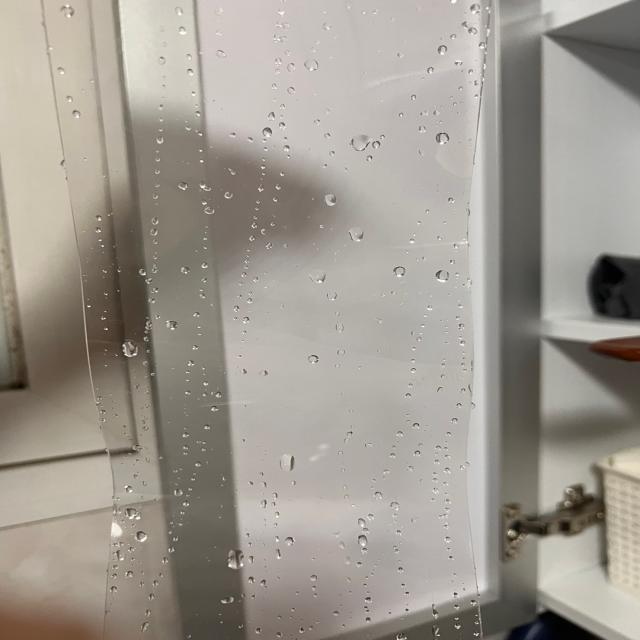raindrop: (227, 545, 250, 572), (351, 132, 375, 154), (276, 453, 298, 474), (58, 2, 80, 22), (124, 504, 146, 524), (200, 198, 220, 219), (351, 225, 369, 245), (194, 178, 216, 194), (433, 266, 451, 285), (308, 269, 332, 283), (434, 131, 452, 149), (208, 4, 231, 18), (121, 340, 138, 358), (153, 56, 174, 70), (175, 262, 192, 279), (462, 19, 479, 36), (135, 530, 153, 546), (306, 58, 324, 74), (356, 533, 374, 549), (414, 123, 432, 138), (136, 606, 157, 618), (190, 459, 209, 472), (176, 24, 193, 38), (214, 46, 231, 60), (390, 264, 407, 278), (304, 351, 322, 364), (51, 65, 72, 76), (174, 6, 190, 20), (428, 604, 444, 618), (144, 214, 164, 225), (145, 178, 165, 189), (434, 45, 454, 56), (70, 108, 84, 123), (196, 257, 211, 271), (284, 536, 298, 551), (321, 22, 337, 35), (243, 576, 269, 584), (218, 594, 236, 605), (115, 549, 129, 563), (286, 84, 300, 98), (272, 548, 286, 562), (430, 624, 444, 638), (63, 92, 79, 104), (182, 66, 198, 78), (214, 28, 230, 40), (419, 65, 435, 77), (152, 134, 165, 148), (123, 570, 136, 584), (140, 620, 154, 633), (324, 194, 338, 207), (172, 179, 190, 189), (324, 292, 342, 302), (392, 630, 410, 640), (220, 190, 236, 201), (258, 481, 274, 492), (180, 359, 197, 369), (194, 109, 208, 121), (165, 320, 179, 332), (332, 320, 346, 332), (389, 501, 404, 512), (148, 168, 164, 178), (239, 315, 255, 325), (194, 129, 208, 140), (261, 125, 275, 136), (264, 109, 278, 120), (274, 120, 288, 131), (286, 62, 297, 76), (392, 430, 406, 441), (144, 228, 161, 237), (269, 35, 286, 44), (145, 253, 160, 263), (147, 266, 163, 275), (91, 211, 105, 221), (248, 235, 262, 245), (146, 238, 161, 247), (263, 240, 274, 252), (259, 368, 271, 379), (339, 347, 351, 358), (306, 573, 318, 584), (372, 490, 383, 502), (354, 518, 366, 529), (255, 184, 268, 194), (362, 153, 378, 161), (412, 450, 428, 458), (144, 299, 158, 308), (478, 40, 492, 49), (139, 318, 154, 326), (238, 366, 250, 376), (398, 110, 410, 120), (201, 424, 217, 431), (468, 4, 482, 12), (278, 102, 288, 113), (274, 55, 285, 65), (413, 422, 424, 432), (273, 183, 285, 192), (188, 345, 201, 353), (184, 52, 194, 62), (209, 406, 219, 416), (172, 489, 182, 499), (256, 470, 266, 480), (290, 604, 300, 614), (454, 58, 464, 68), (134, 270, 148, 277), (269, 196, 283, 203), (96, 315, 108, 323), (184, 123, 196, 131), (268, 82, 280, 90), (231, 304, 243, 312), (178, 429, 190, 437), (288, 478, 300, 486), (152, 155, 162, 164), (227, 130, 238, 138), (214, 392, 225, 400), (362, 595, 373, 603), (148, 194, 160, 201), (91, 225, 103, 232), (332, 361, 344, 368), (278, 170, 288, 178), (258, 228, 268, 236), (312, 116, 320, 126), (148, 288, 161, 294), (253, 628, 266, 634), (188, 89, 196, 98), (85, 302, 97, 308), (110, 587, 122, 593), (321, 132, 330, 140), (108, 573, 118, 580), (244, 297, 254, 304), (100, 325, 111, 331), (249, 221, 260, 227), (252, 276, 260, 284), (95, 238, 104, 245), (103, 267, 110, 276), (283, 145, 292, 152), (244, 135, 254, 141), (259, 165, 269, 171), (261, 148, 271, 154), (184, 389, 192, 395)
